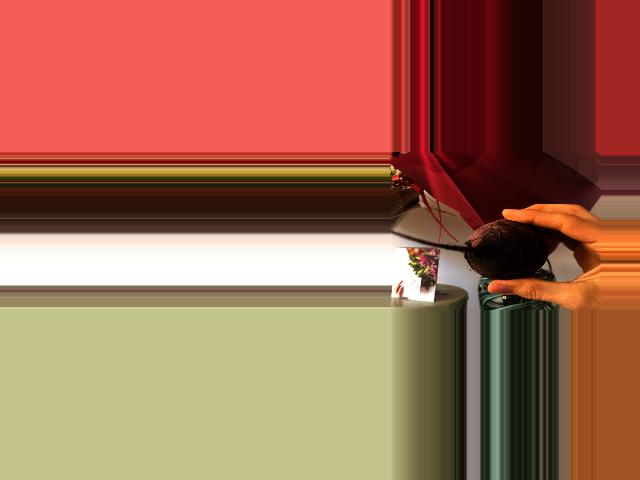beet: (388, 219, 550, 280)
